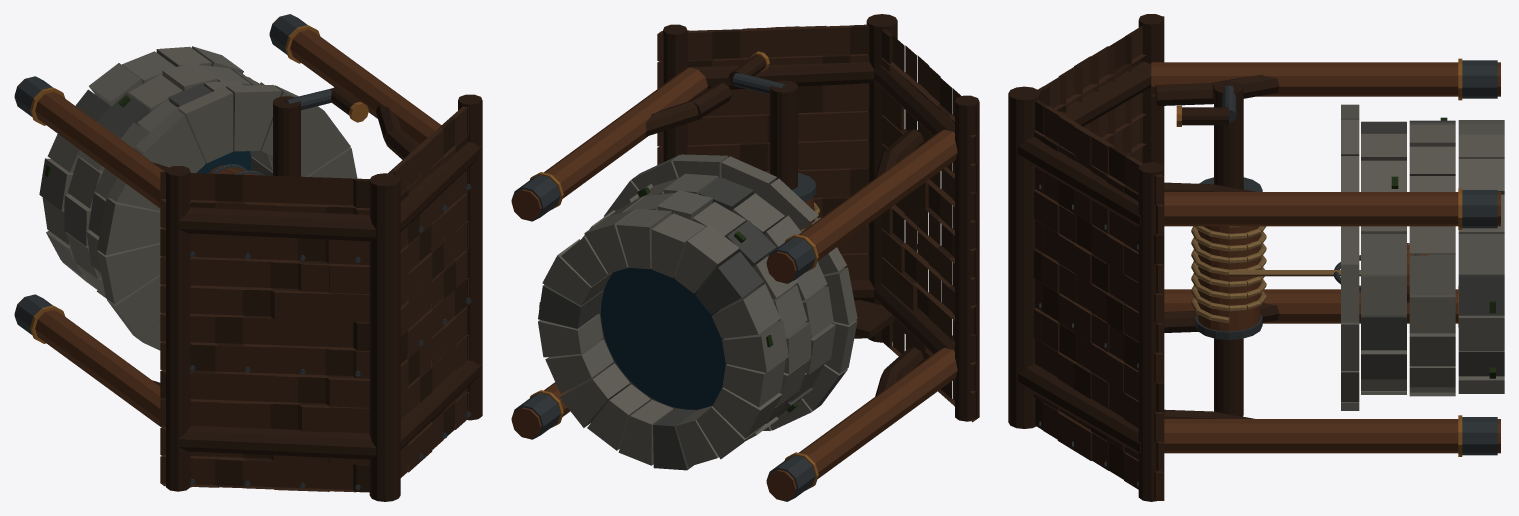
Rendered from SM_Velegard_Well_1348_LOD0.obj.
3 renders of one model, left to right at view 1: azimuth 30°, elevation 25°; view 2: azimuth 150°, elevation 25°; view 3: azimuth 270°, elevation 25°, orthographic. The views are drawn at different scales.
Visible parts, largest first — view 1: WoodDark, Shingle, Stone, Wood, Iron, StoneDark, Brass, Water; view 2: Stone, WoodDark, Shingle, Wood, Water, StoneDark, Iron, Brass; view 3: WoodDark, Wood, Stone, Shingle, Iron, Rope, StoneDark, Brass.
Boxes of the visible parts, box(x1,y1,x2,y2) form: WoodDark: box(152, 87, 482, 501); Shingle: box(160, 106, 469, 492); Stone: box(39, 46, 357, 350); Wood: box(14, 16, 441, 427); Iron: box(14, 14, 471, 490); StoneDark: box(75, 84, 251, 158); Brass: box(30, 25, 368, 343); Water: box(196, 151, 251, 173); Stone: box(538, 154, 857, 466); WoodDark: box(645, 14, 979, 421); Shingle: box(657, 25, 976, 422); Wood: box(511, 67, 957, 501); Water: box(600, 267, 726, 409); StoneDark: box(538, 177, 812, 470); Iron: box(511, 73, 939, 501); Brass: box(530, 51, 818, 490); WoodDark: box(1008, 14, 1409, 501); Wood: box(1151, 62, 1500, 453); Stone: box(1341, 104, 1504, 410); Shingle: box(1033, 16, 1164, 500); Iron: box(1039, 60, 1497, 487); Rope: box(1191, 226, 1360, 323); StoneDark: box(1361, 120, 1504, 350); Brass: box(1176, 58, 1462, 456).
Bounding box in the file's own units: 2.3 × 2.27 × 3.01.
